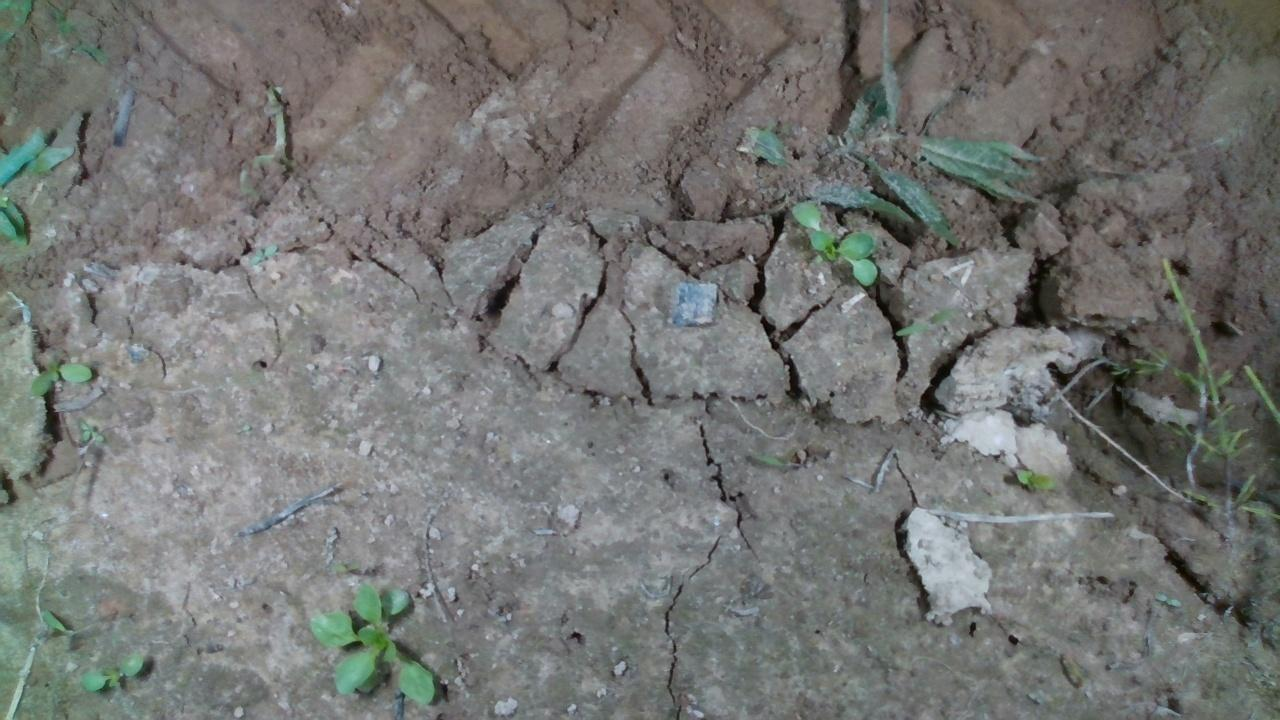weed: (77, 651, 145, 694), (27, 356, 92, 398), (892, 306, 953, 337), (1010, 466, 1056, 492), (75, 417, 105, 444), (246, 241, 279, 264), (1152, 590, 1182, 608)
